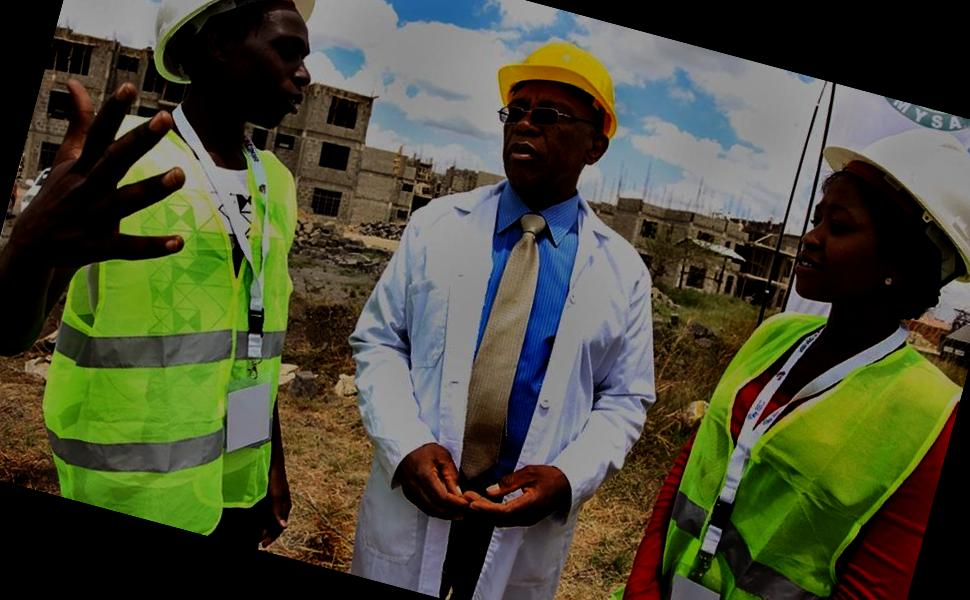helmet: (799, 97, 970, 293), (123, 0, 325, 124), (474, 29, 642, 164)
no_vest: (349, 172, 644, 562)
person: (280, 6, 740, 600), (0, 0, 391, 546), (604, 74, 970, 600)
